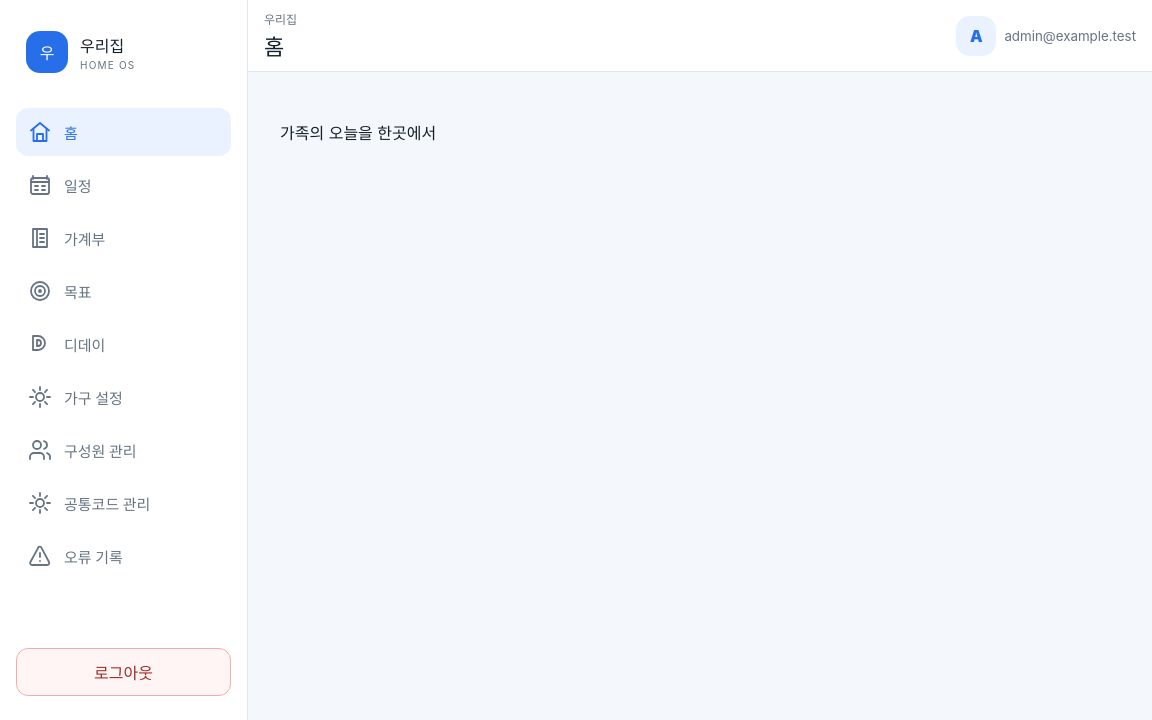
Test: app navigation › keeps the current page and shows a safe error when logout fails
Step 1. Click the button "로그아웃" → [124, 672], box [16,648,231,696]
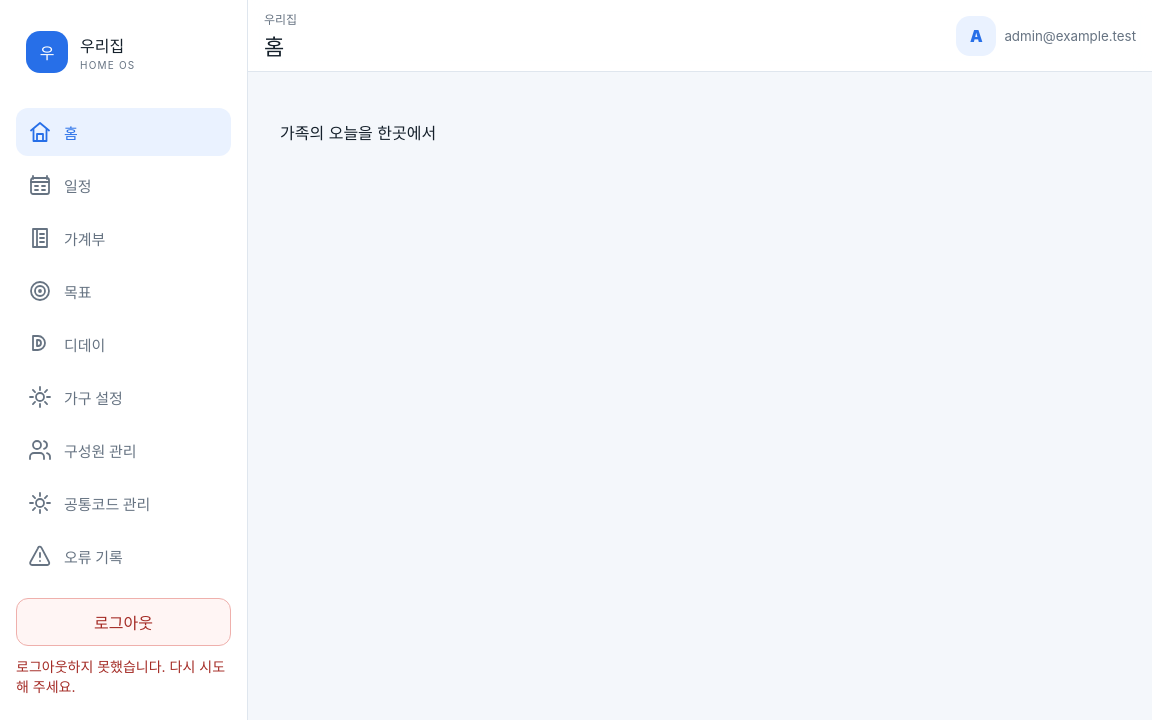
Expected: the text "가족의 오늘을 한곳에서" is shown, [280,123,436,143]
Now the message shows "로그아웃하지 못했습니다", box [16,658,225,695]
